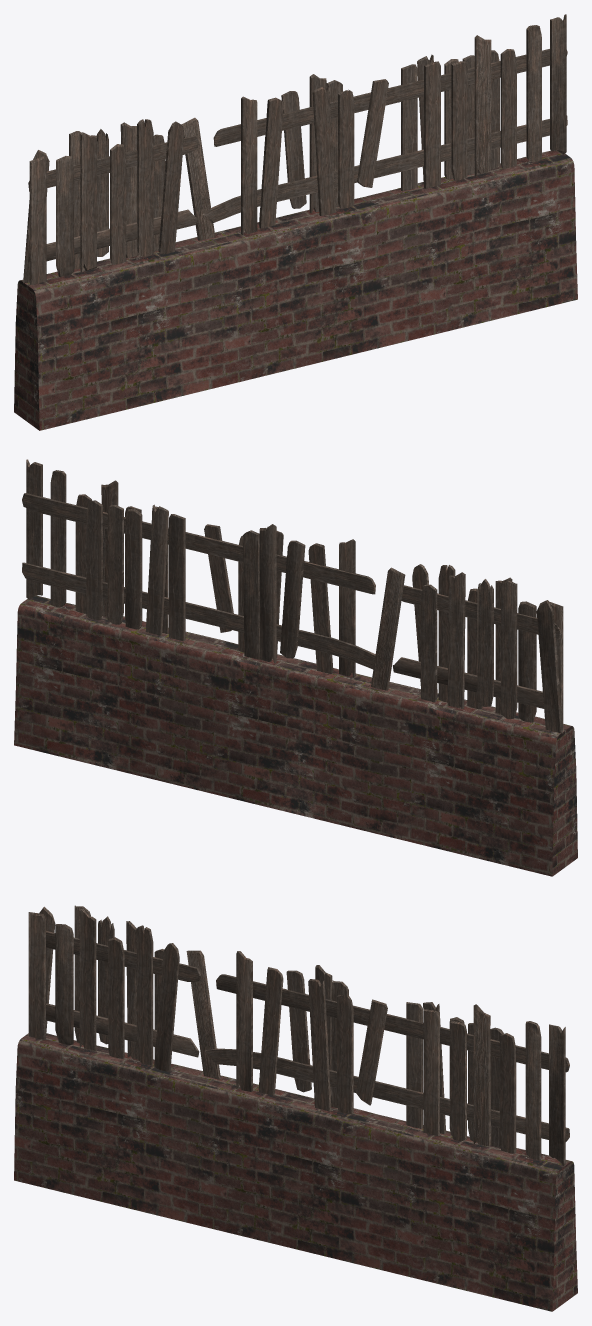
The model's file is Farm_Fence01.fbx.
3 views of the same model, one above another, from view 1: azimuth 30°, elevation 25°; view 2: azimuth 150°, elevation 25°; view 3: azimuth 330°, elevation 25° (orthographic).
Visible parts, largest first — view 1: SM_Farm_Fence01.mo; view 2: SM_Farm_Fence01.mo; view 3: SM_Farm_Fence01.mo.
Part boxes in pixels (bbox=[...]): SM_Farm_Fence01.mo: bbox=[14, 14, 577, 430]; SM_Farm_Fence01.mo: bbox=[14, 459, 577, 876]; SM_Farm_Fence01.mo: bbox=[14, 905, 577, 1311].
Size of the model in its own units: 823 by 402 by 67.24.
